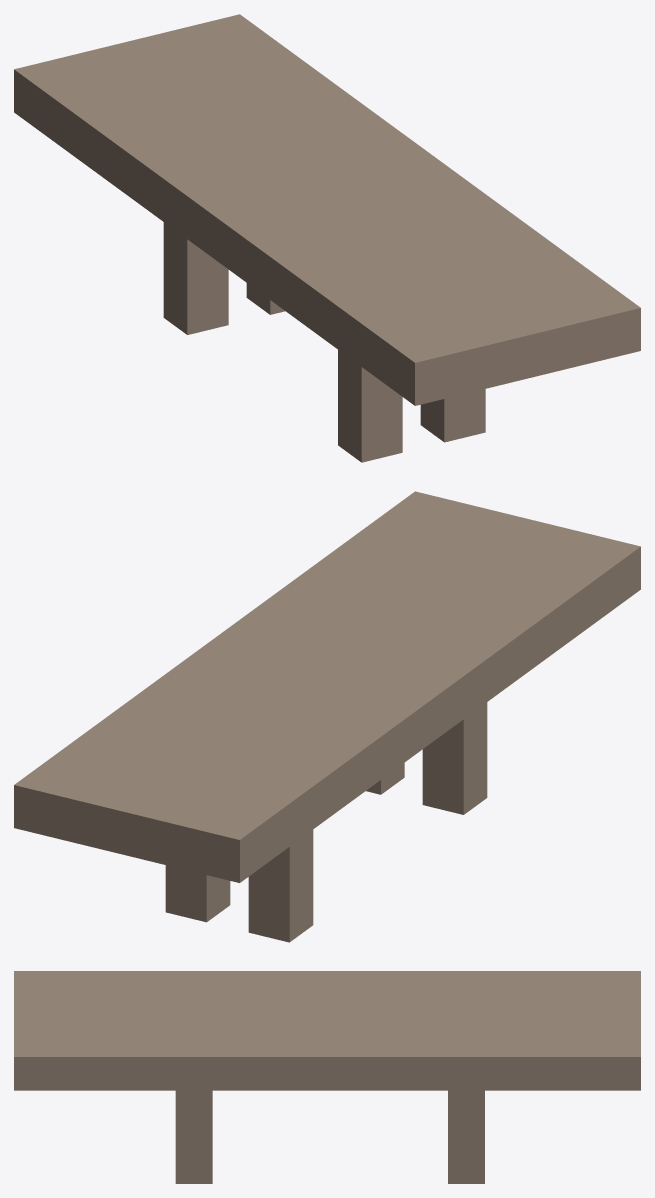
File: fbbridge.fbx
The picture shows the model from 3 angles, top to bottom: view 1: azimuth 30°, elevation 25°; view 2: azimuth 150°, elevation 25°; view 3: azimuth 270°, elevation 25°; orthographic projection. The views are drawn at different scales.
Parts seen in each view (by area): view 1: Cube.017; view 2: Cube.017; view 3: Cube.017.
Boxes of the visible parts, box(x1,y1,x2,y2) form: Cube.017: box(14, 14, 640, 462); Cube.017: box(14, 491, 640, 942); Cube.017: box(14, 971, 640, 1183).
Size of the model in its own units: 597 by 474 by 1837.
